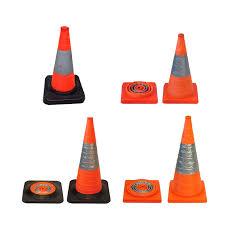cones: (168, 117, 209, 207), (69, 119, 112, 202), (41, 26, 85, 107), (163, 33, 200, 108)
